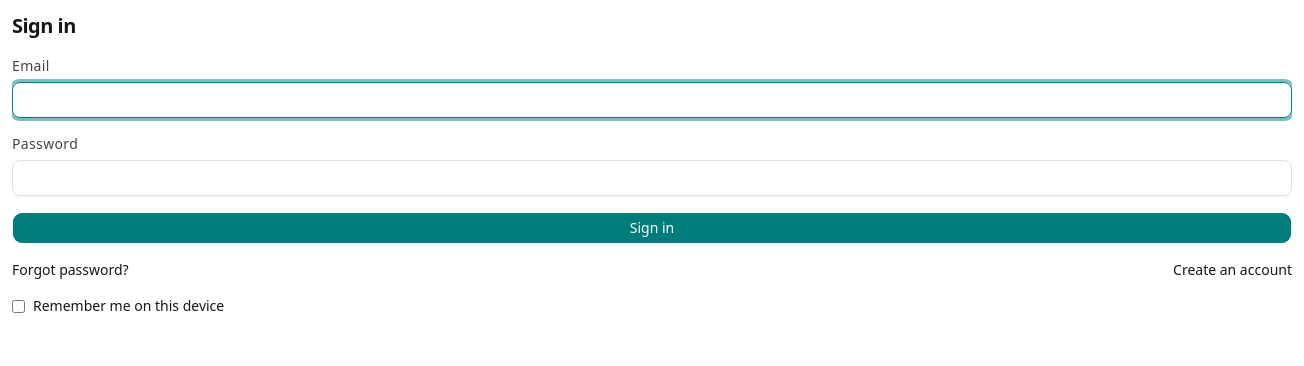
Test: Login page › shows the inline server error on HTTP_500 (not invalidCredentials)
Type "a@b.test" into the field labelled "Email" at (652, 100), box x1=12 y1=82 x2=1292 y2=118
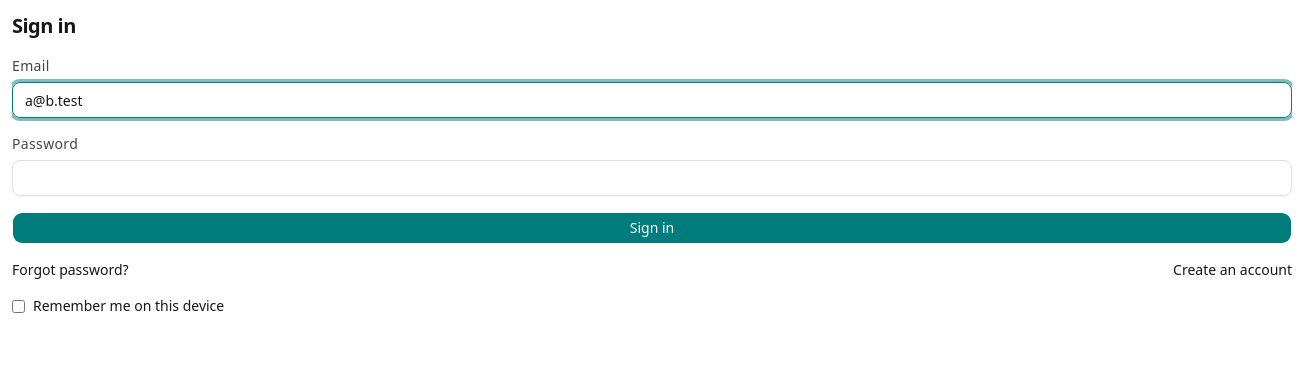
Type "pw" into the password field labelled "Password" at (652, 178), box x1=12 y1=160 x2=1292 y2=196
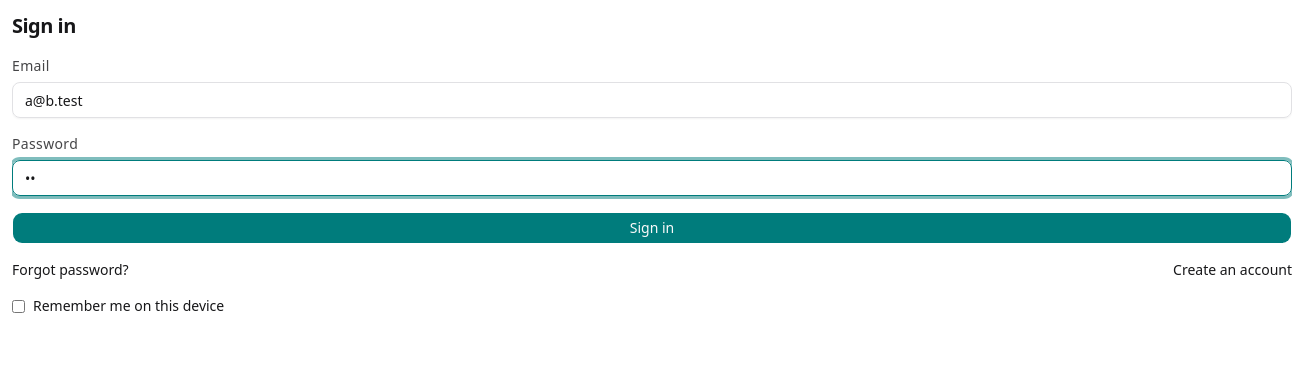
Click the button "Sign in" at (652, 228), box x1=12 y1=212 x2=1292 y2=244
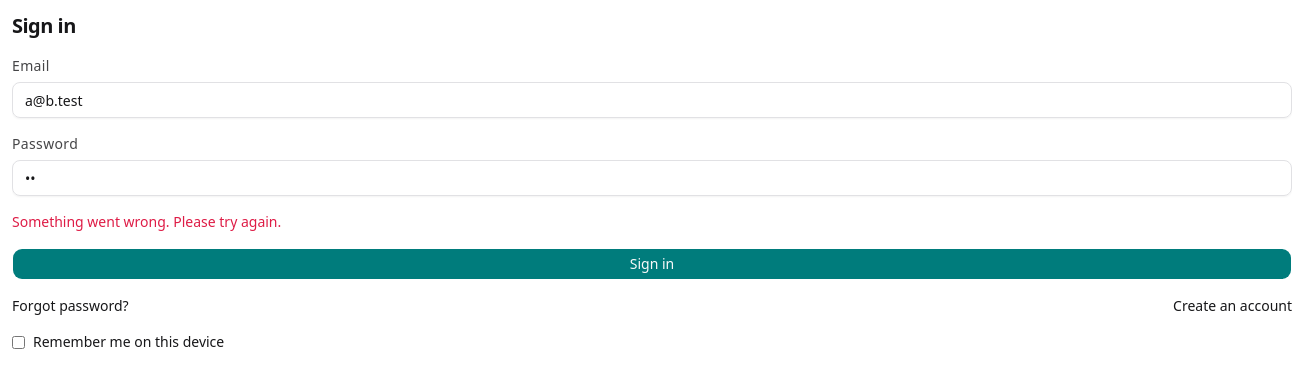
Now the text "Something went wrong. Please try again." is shown, box x1=12 y1=212 x2=281 y2=231
